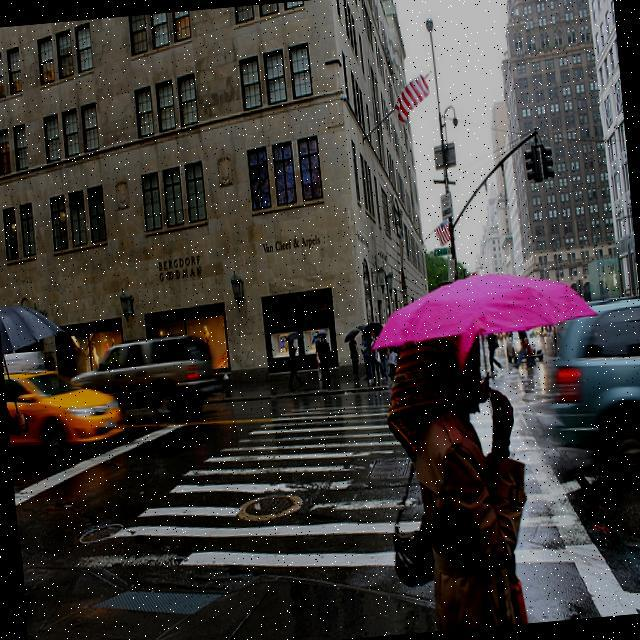fire_hydrant: (221, 372, 230, 396)
